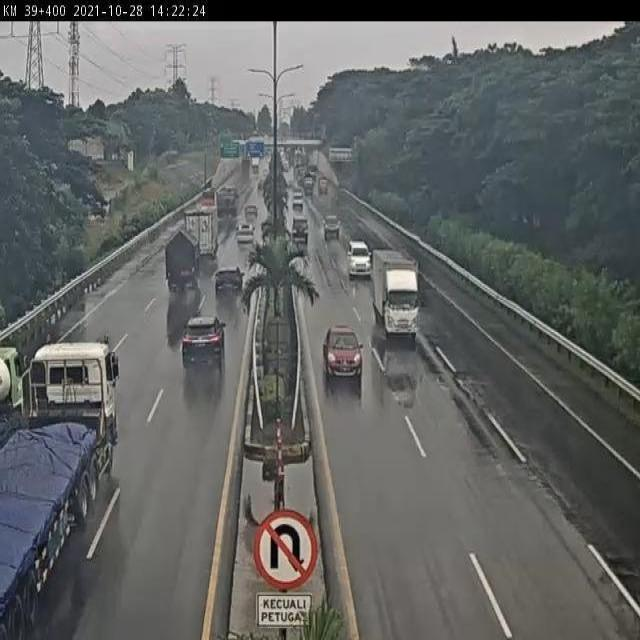Car: (181, 315, 227, 370), (322, 326, 364, 384), (347, 240, 371, 277), (213, 266, 244, 294), (291, 214, 309, 245), (234, 222, 256, 246), (323, 214, 340, 238), (292, 190, 304, 210), (244, 202, 258, 216)
Truck: (0, 326, 122, 640), (371, 247, 426, 341), (0, 341, 27, 449), (164, 228, 202, 291), (183, 205, 220, 258), (216, 184, 240, 219), (201, 189, 216, 206), (317, 175, 328, 195), (303, 172, 314, 192), (241, 157, 251, 173), (252, 157, 260, 170)
